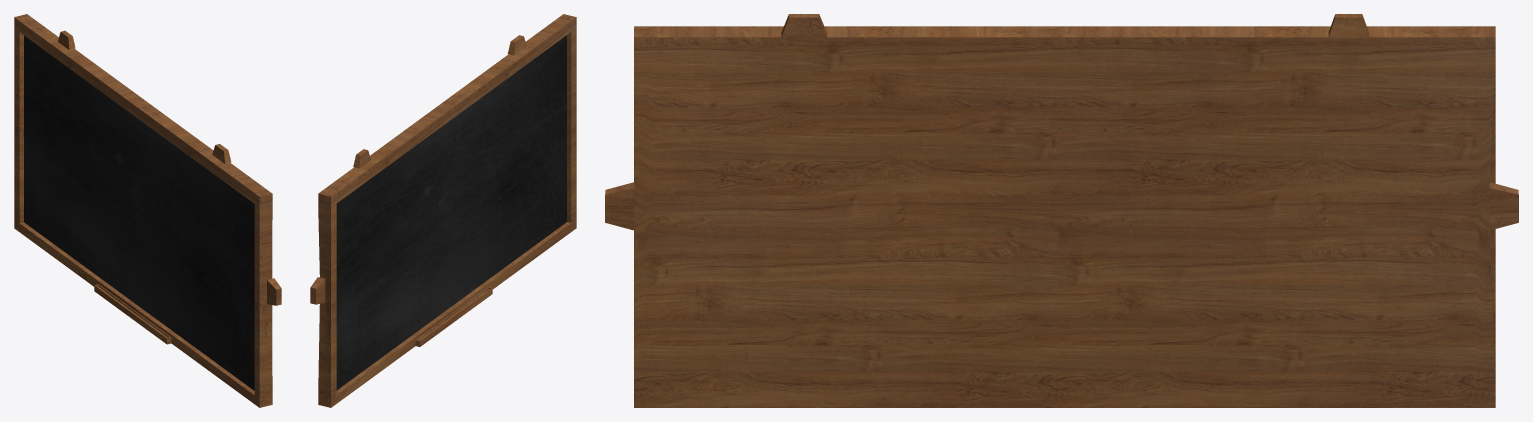
File: Blackboard.FBX
The picture shows the model from 3 angles, left to right: view 1: azimuth 30°, elevation 25°; view 2: azimuth 150°, elevation 25°; view 3: azimuth 270°, elevation 25°; orthographic projection. The views are drawn at different scales.
Parts seen in each view (by area): view 1: Box001; view 2: Box001; view 3: Box001.
Part boxes in pixels (<box>): Box001: <box>14,14,281,407</box>; Box001: <box>310,14,576,407</box>; Box001: <box>605,14,1518,407</box>.
Bounding box in the file's own units: 4.8 × 52.84 × 112.
